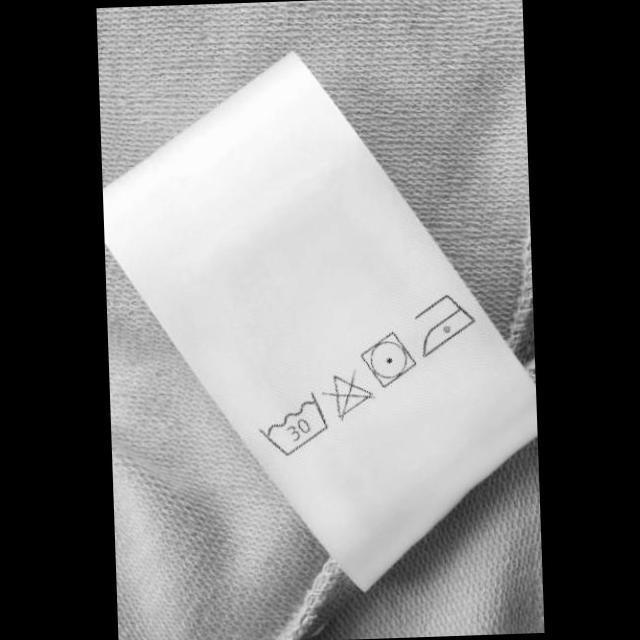30C: (250, 385, 334, 463)
DN_bleach: (316, 362, 382, 426)
iron_low: (409, 288, 481, 361)
tumble_dry_low: (357, 324, 422, 392)
